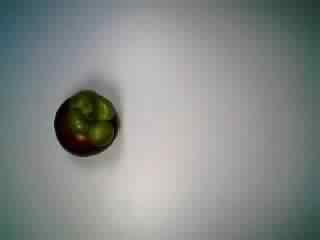mangosteen: (47, 83, 127, 159)
